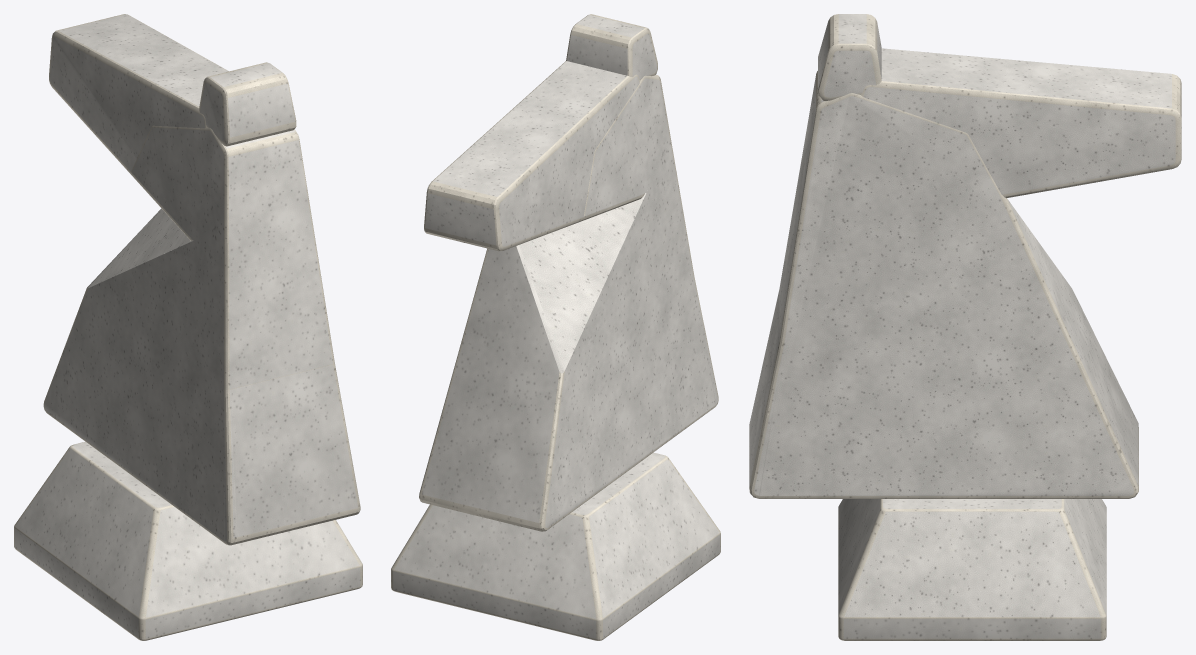
The model's file is knight-white.glb.
3 views of the same model, side by side, from view 1: azimuth 30°, elevation 25°; view 2: azimuth 150°, elevation 25°; view 3: azimuth 270°, elevation 25° (orthographic). The views are drawn at different scales.
Visible parts, largest first — view 1: knight_white; view 2: knight_white; view 3: knight_white.
Boxes of the visible parts, x1,y1,x2,y2 form: knight_white: (14, 14, 362, 640); knight_white: (391, 14, 720, 640); knight_white: (749, 14, 1181, 640).
Bounding box in the file's own units: 0.5022 × 1.15 × 0.8095.
Materials: 2 (2 with a texture image).
